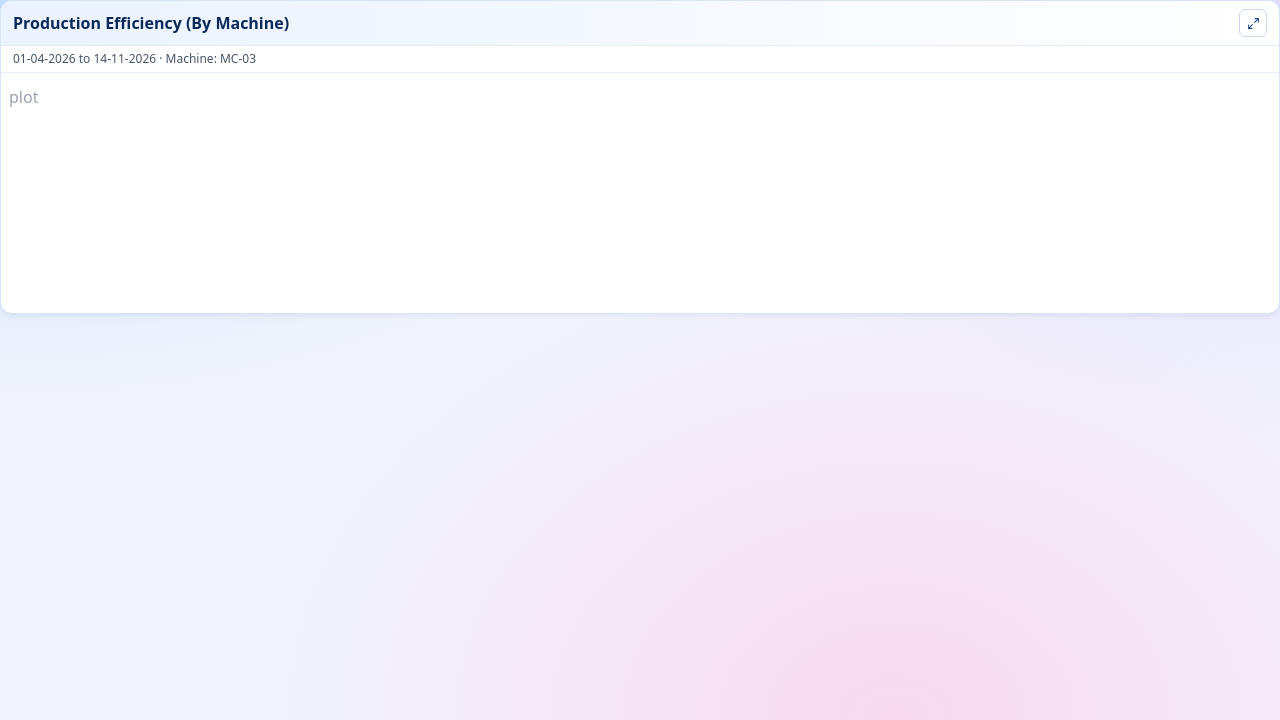
Test case: Expand modal › opens at ~90% of the viewport above everything, with the same title, filter line and chart
What coordinates should you click on to do the following:
click the button named "Expand chart"
I would click on:
 (1253, 23)
Its box is x1=1239 y1=9 x2=1267 y2=37.
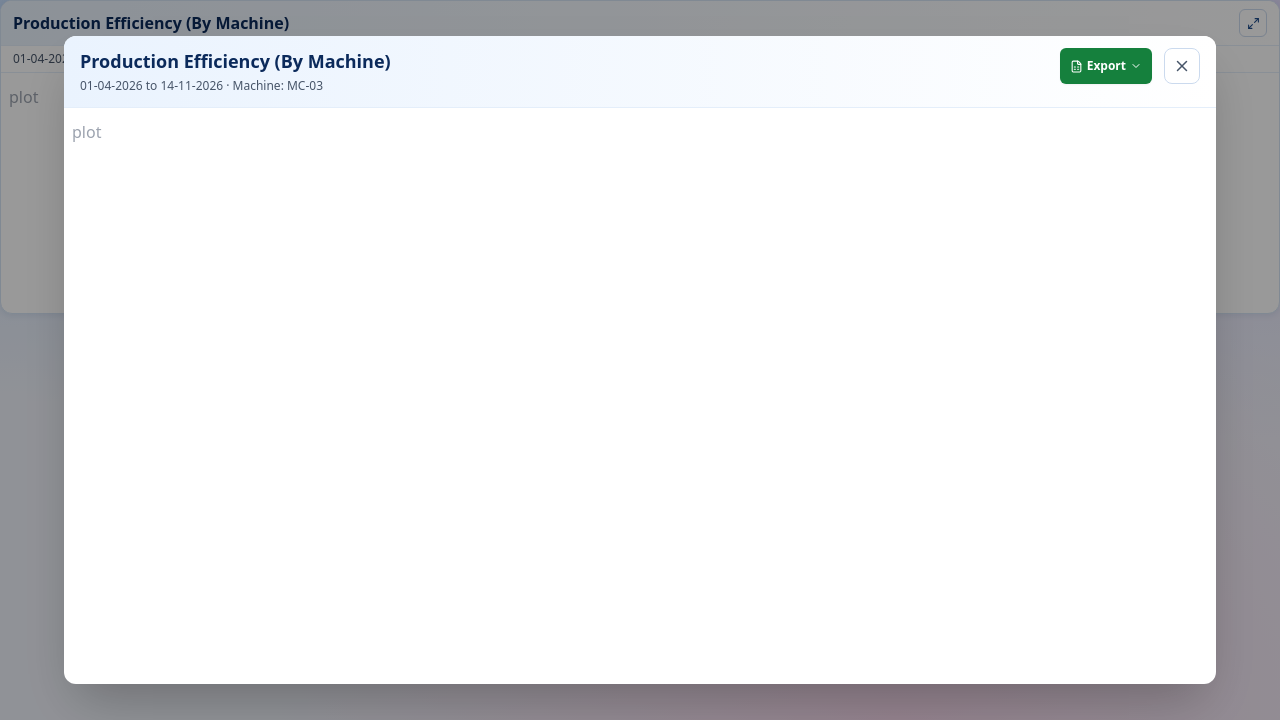
Check: the text "01-04-2026 to 14-11-2026 · Machine: MC-03" is shown, box x1=80 y1=77 x2=323 y2=94
Check: the text "plot" is shown, box x1=72 y1=121 x2=101 y2=143
Check: the number of elements with test id "plot" is 2, box x1=9 y1=86 x2=38 y2=108; x1=72 y1=121 x2=101 y2=143
